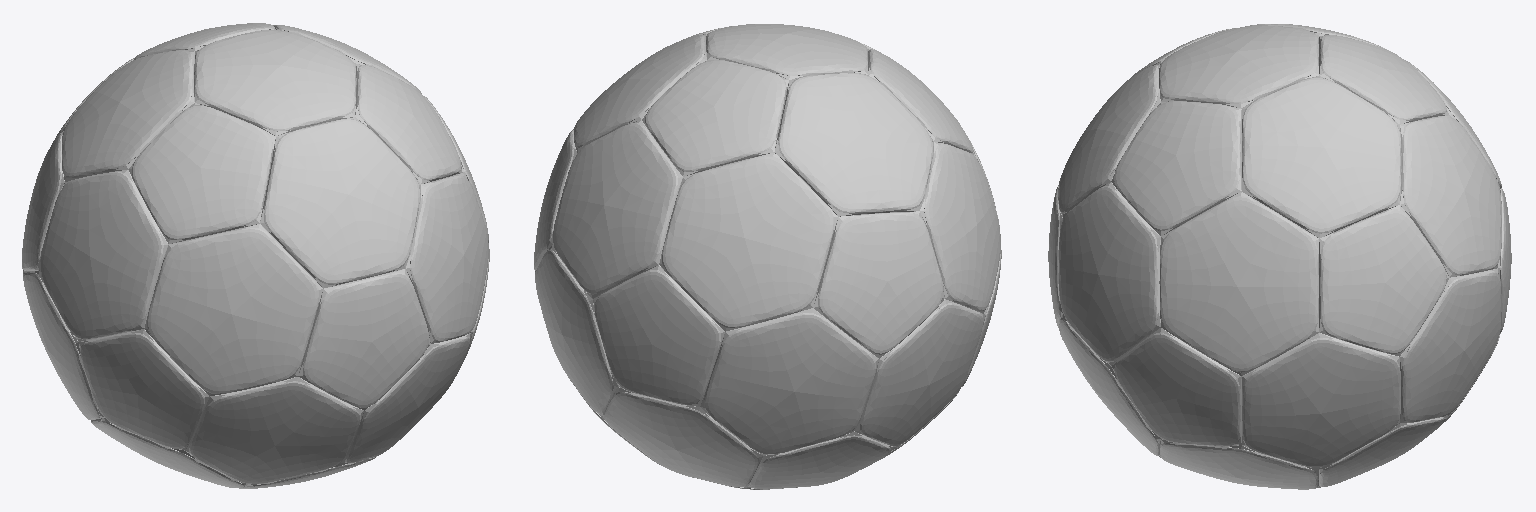
File: soccer.obj
3 renders of one model, left to right at view 1: azimuth 30°, elevation 25°; view 2: azimuth 150°, elevation 25°; view 3: azimuth 270°, elevation 25°, orthographic.
Parts seen in each view (by area): view 1: Platonic; view 2: Platonic; view 3: Platonic.
Part boxes in pixels (x1,y1,x2,y2): Platonic: (22, 23, 489, 488); Platonic: (534, 24, 1001, 489); Platonic: (1048, 24, 1511, 489).
Size of the model in its own units: 129 by 128 by 128.